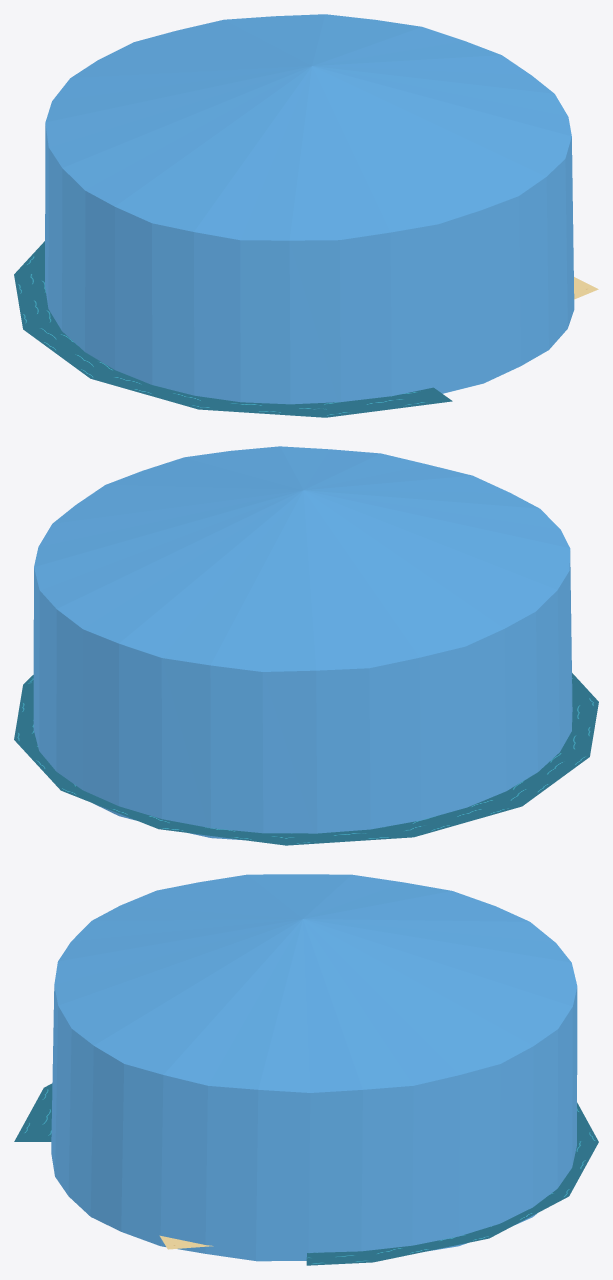
Rendered from BeachParty.glb.
3 views of the same model, one above another, from view 1: azimuth 30°, elevation 25°; view 2: azimuth 150°, elevation 25°; view 3: azimuth 270°, elevation 25° (orthographic).
Visible parts, largest first — view 1: BeachParty, BeachParty_Ocean; view 2: BeachParty, BeachParty_Ocean; view 3: BeachParty, BeachParty_Ocean.
Part boxes in pixels (x1=…): BeachParty: x1=45, y1=14, x2=598, y2=404; BeachParty_Ocean: x1=14, y1=241, x2=452, y2=417; BeachParty: x1=33, y1=446, x2=572, y2=840; BeachParty_Ocean: x1=14, y1=673, x2=598, y2=845; BeachParty: x1=51, y1=874, x2=577, y2=1261; BeachParty_Ocean: x1=14, y1=1083, x2=598, y2=1265.
Bounding box in the file's own units: 111 × 49.87 × 112.
Materials: 5 (5 with a texture image).
